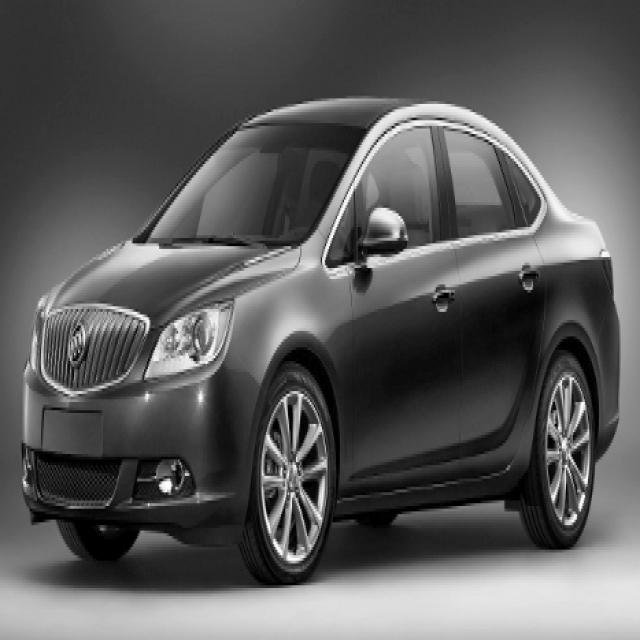car: (19, 93, 621, 585)
